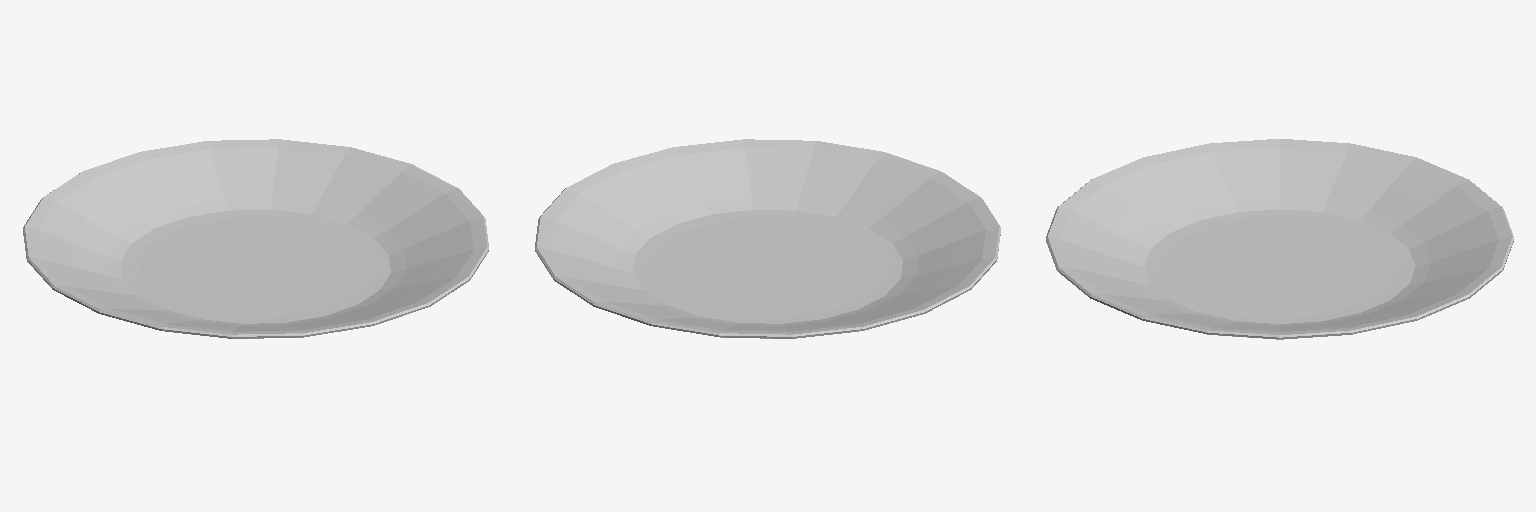
File: Dish 2.obj
The picture shows the model from 3 angles: view 1: azimuth 30°, elevation 25°; view 2: azimuth 150°, elevation 25°; view 3: azimuth 270°, elevation 25°; orthographic projection.
Parts seen in each view (by area): view 1: dish 2; view 2: dish 2; view 3: dish 2.
Part boxes in pixels (x1,y1,x2,y2): dish 2: (23, 139, 488, 338); dish 2: (535, 139, 1000, 338); dish 2: (1046, 139, 1513, 339).
Size of the model in its own units: 23.86 by 2.14 by 23.83.